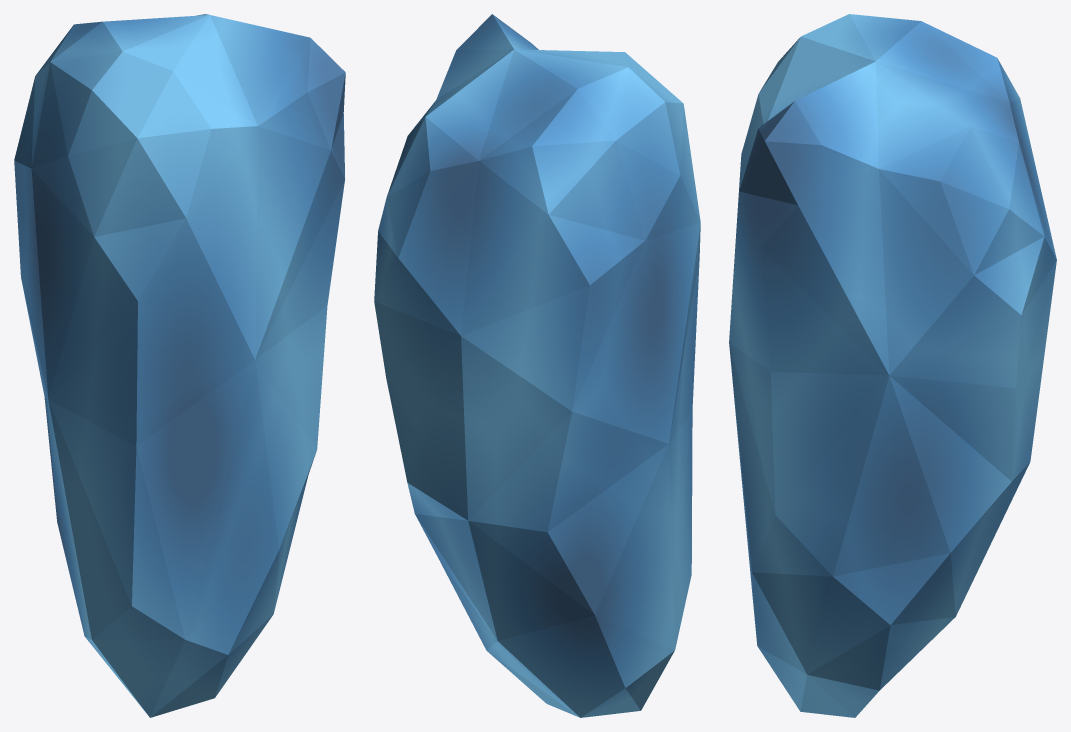
Rendered from RS_nr_diamond.fbx.
The picture shows the model from 3 angles, left to right: view 1: azimuth 30°, elevation 25°; view 2: azimuth 150°, elevation 25°; view 3: azimuth 270°, elevation 25°; orthographic projection. The views are drawn at different scales.
Visible parts, largest first — view 1: RS_nr_diamond; view 2: RS_nr_diamond; view 3: RS_nr_diamond.
Boxes of the visible parts, box(x1,y1,x2,y2) form: RS_nr_diamond: box(14, 14, 345, 717); RS_nr_diamond: box(374, 14, 700, 717); RS_nr_diamond: box(729, 14, 1056, 717).
Size of the model in its own units: 30.37 by 74.55 by 32.86.
